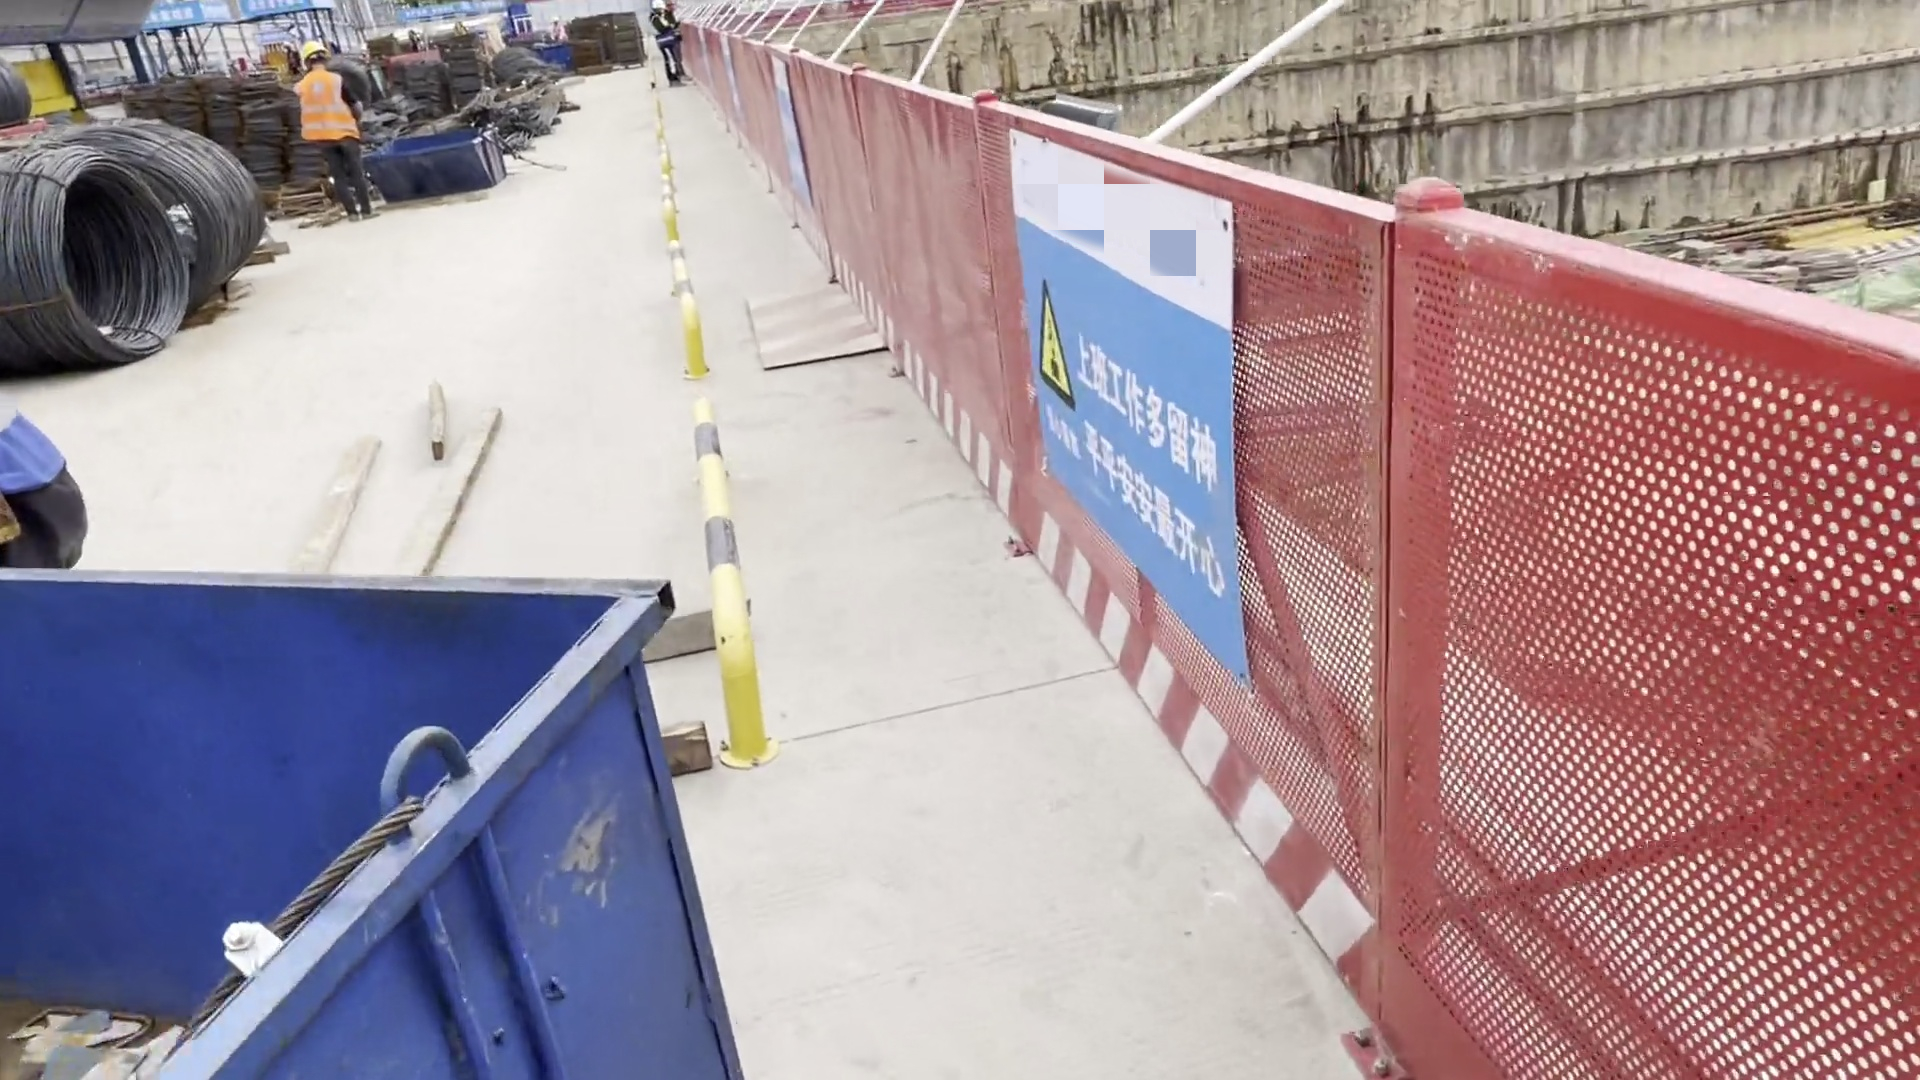fence: (726, 23, 1920, 1080)
helmet: (302, 40, 329, 61), (652, 2, 673, 9)
hopper: (1, 559, 767, 1080), (369, 130, 505, 203)
person: (277, 48, 395, 216), (645, 1, 699, 97)
slogan: (998, 160, 1269, 684)
vest: (297, 74, 351, 140), (651, 15, 677, 47)
